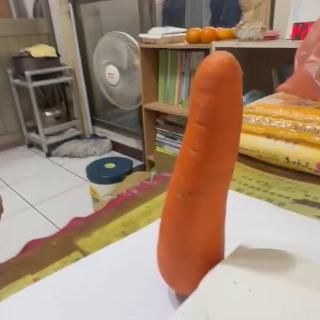carrot: (158, 49, 244, 296)
